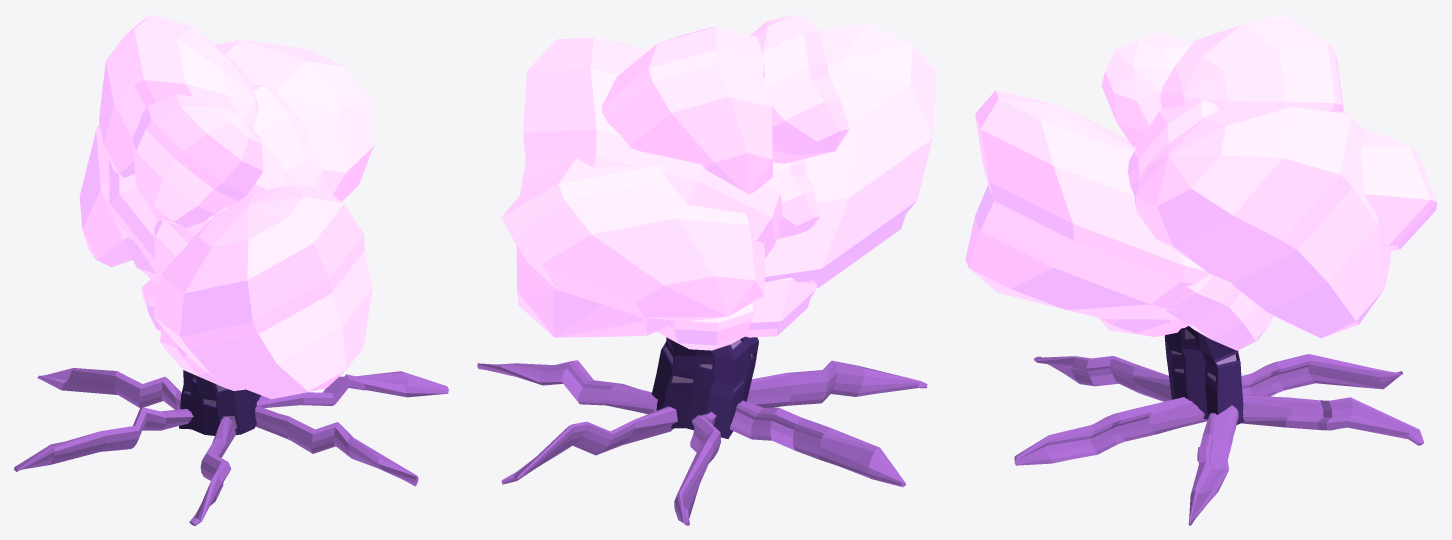
File: BigTree.fbx
The picture shows the model from 3 angles, left to right: view 1: azimuth 30°, elevation 25°; view 2: azimuth 150°, elevation 25°; view 3: azimuth 270°, elevation 25°; orthographic projection. The views are drawn at different scales.
Parts seen in each view (by area): view 1: Sphere.010, Sphere.009, Sphere.007, Sphere.006, Sphere.008, Sphere.005, Cylinder.005, Cylinder.002, Cylinder, Cylinder.006, Cylinder.003, Cylinder.001 (+3 smaller); view 2: Sphere.005, Sphere.010, Sphere.009, Sphere.006, Sphere.007, Cylinder, Cylinder.005, Cylinder.001, Cylinder.003, Cylinder.004, Sphere.001, Sphere.004 (+2 smaller); view 3: Sphere.009, Sphere.010, Sphere.006, Sphere.005, Sphere.007, Cylinder.002, Cylinder, Cylinder.004, Sphere.002, Cylinder.006, Cylinder.001, Cylinder.003 (+2 smaller).
Part boxes in pixels (x1,y1,x2,y2): Sphere.010: (153,185,372,399); Sphere.009: (107,39,373,284); Sphere.007: (132,94,263,227); Sphere.006: (99,14,258,177); Sphere.008: (235,84,328,203); Sphere.005: (79,124,132,267); Cylinder.005: (14,407,193,471); Cylinder.002: (255,405,418,486); Cylinder: (179,370,260,435); Cylinder.006: (37,368,181,409); Cylinder.003: (256,371,448,407); Cylinder.001: (189,416,236,525); Sphere.005: (501,158,765,321); Sphere.010: (764,23,936,288); Sphere.009: (516,37,782,337); Sphere.006: (601,27,772,194); Sphere.007: (750,14,849,163); Cylinder: (651,336,758,438); Cylinder.005: (729,400,905,487); Cylinder.001: (747,360,927,407); Cylinder.003: (477,360,657,414); Cylinder.004: (501,406,677,484); Sphere.001: (745,277,816,337); Sphere.004: (773,159,820,239); Sphere.009: (1136,102,1390,338); Sphere.010: (965,90,1209,319); Sphere.006: (1160,14,1343,111); Sphere.005: (1360,126,1437,250); Sphere.007: (1101,32,1192,147); Cylinder.002: (1014,397,1207,465); Cylinder: (1164,326,1244,424); Cylinder.004: (1242,394,1423,445); Sphere.002: (1165,274,1272,350); Cylinder.006: (1241,354,1403,396); Cylinder.001: (1034,356,1171,401); Cylinder.003: (1188,405,1238,525).
Size of the model in its own units: 2627 by 2397 by 2663.
